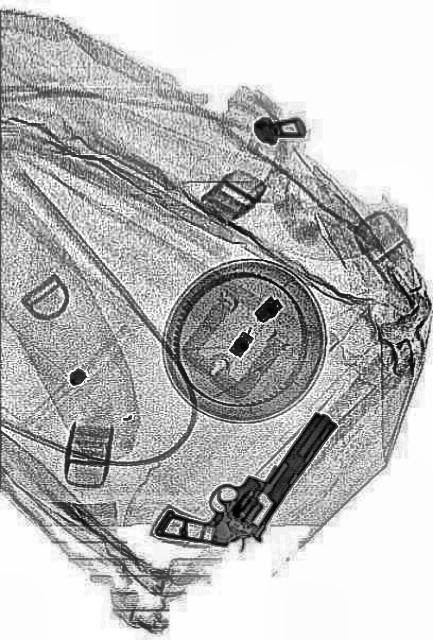Gun: (153, 348, 337, 606)
